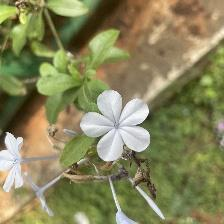chitrak: (81, 88, 159, 167), (1, 131, 27, 194)
